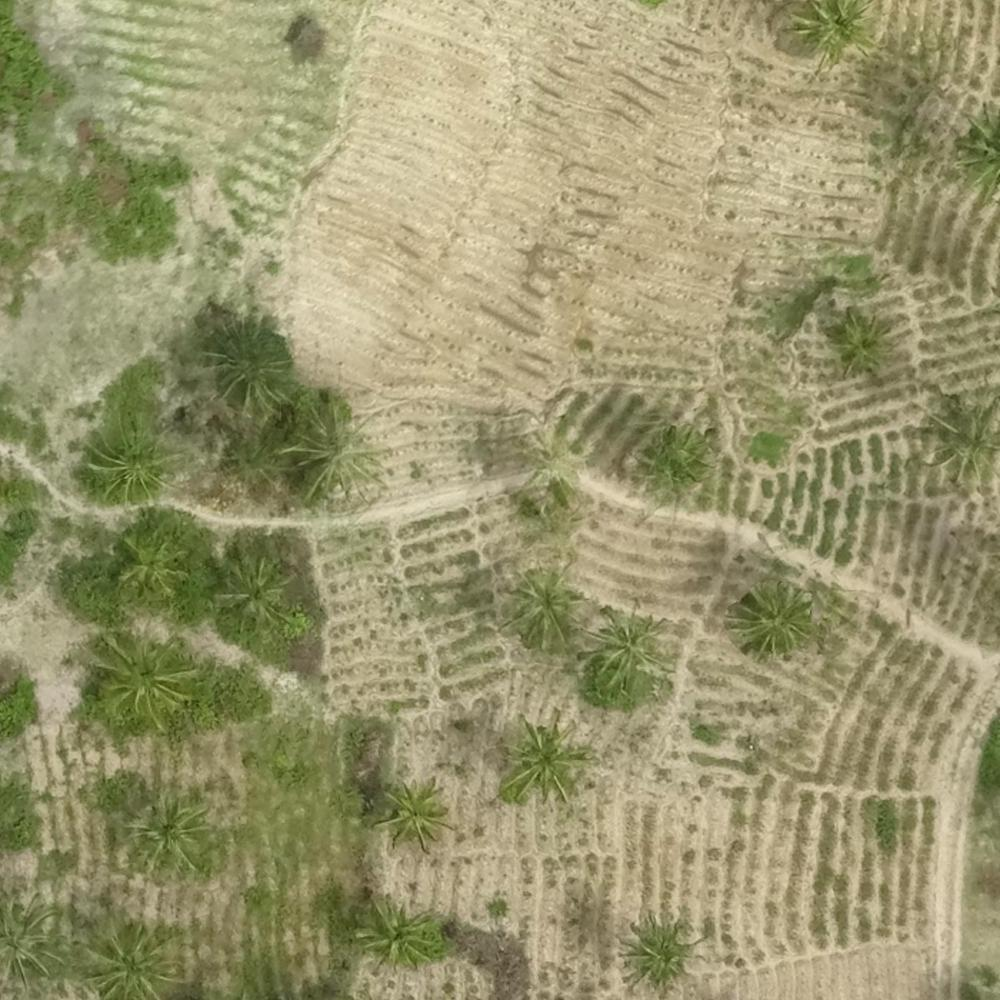Palm: (282, 397, 385, 499), (81, 908, 192, 996), (82, 413, 182, 505), (202, 318, 293, 410), (97, 634, 187, 726), (127, 785, 212, 876), (586, 602, 672, 690), (505, 715, 596, 798), (921, 391, 1000, 482), (348, 891, 440, 967), (734, 582, 818, 660), (784, 1, 883, 67), (502, 569, 583, 648), (208, 552, 290, 627), (622, 916, 705, 989), (2, 894, 66, 986), (375, 779, 452, 847), (113, 532, 182, 605)
